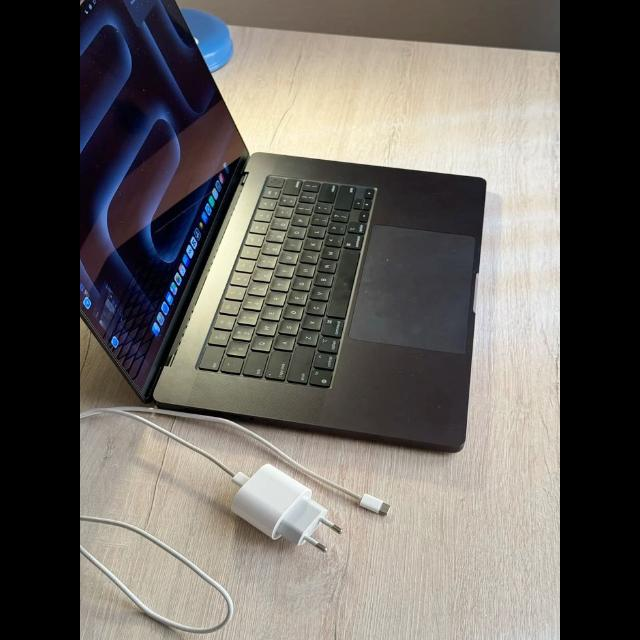laptop: (80, 0, 485, 451)
